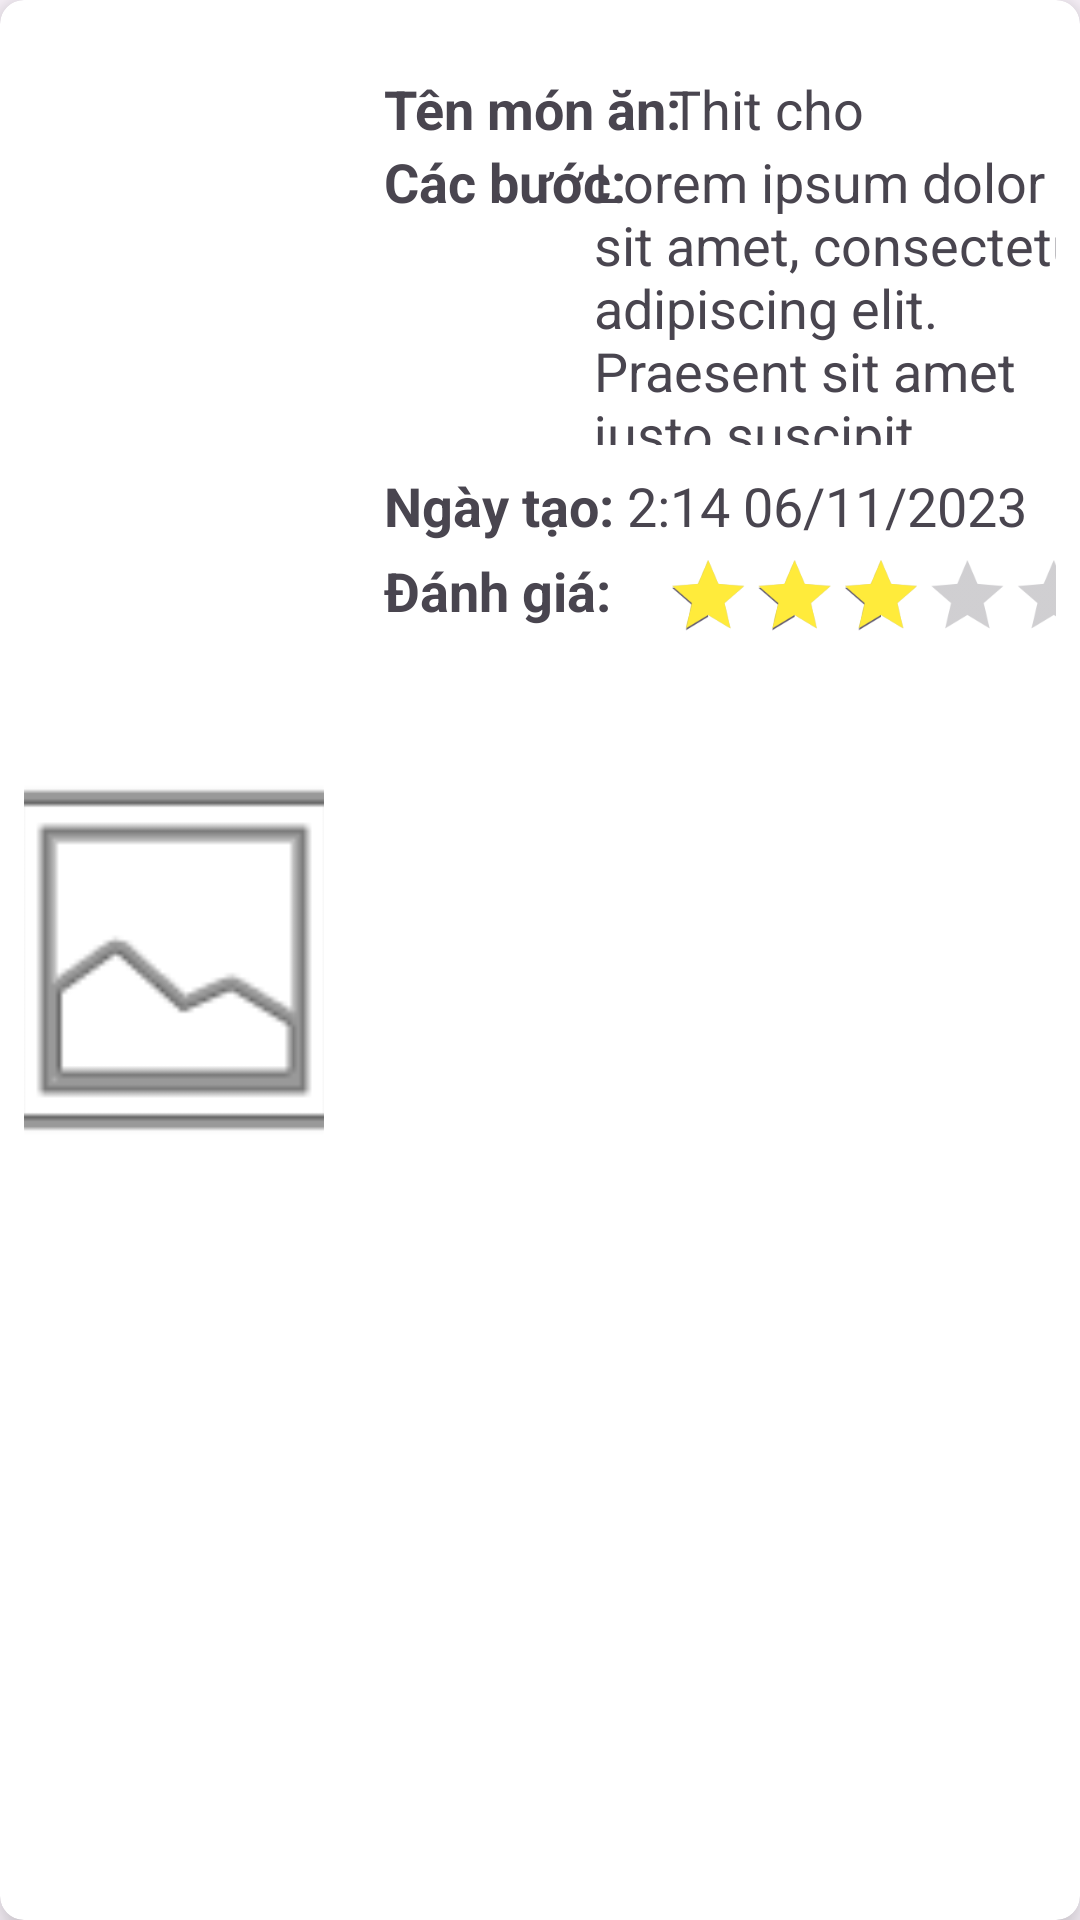

Icons on this 1080px x 1920px Android screen, each with the point to tap as (x=x, y=y):
gallery: (x=174, y=960)
